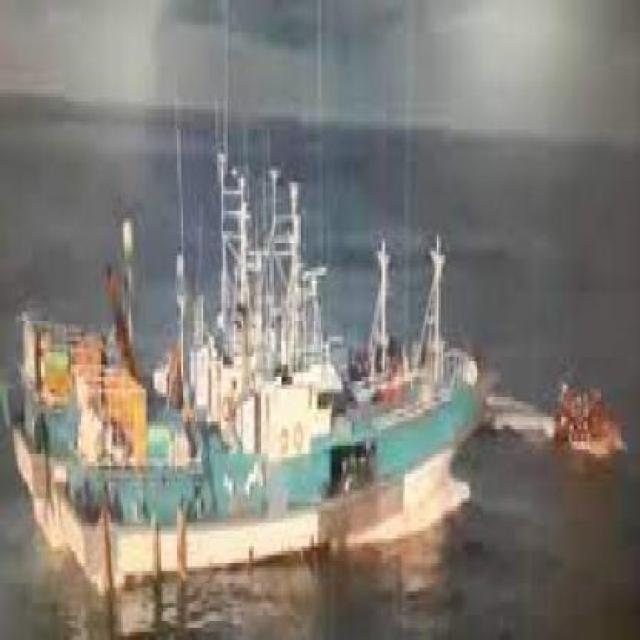fish-b: (1, 1, 501, 606)
